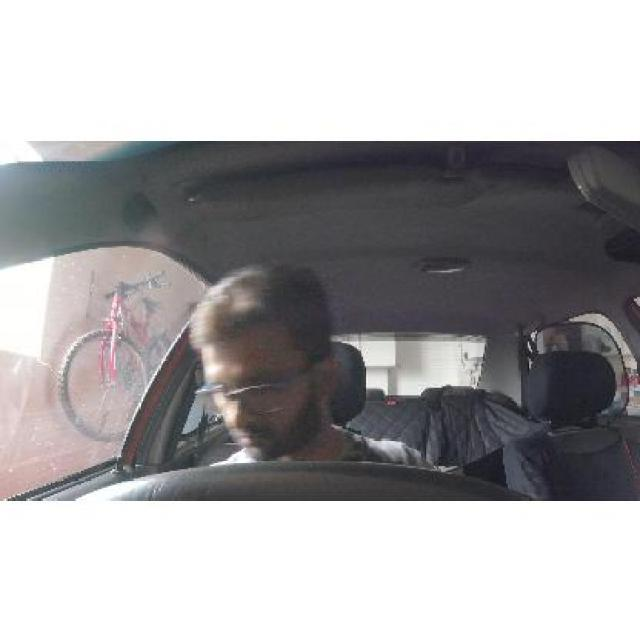drowsy: (194, 263, 349, 452)
